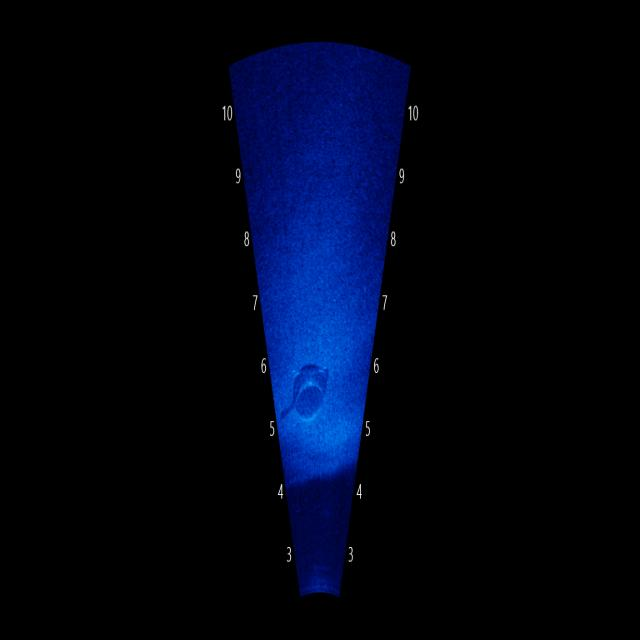circle: (283, 336, 335, 440)
